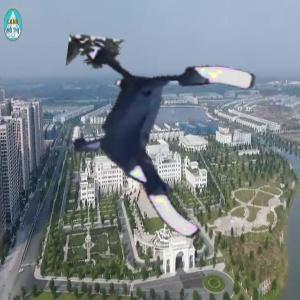drone: (58, 44, 251, 237)
